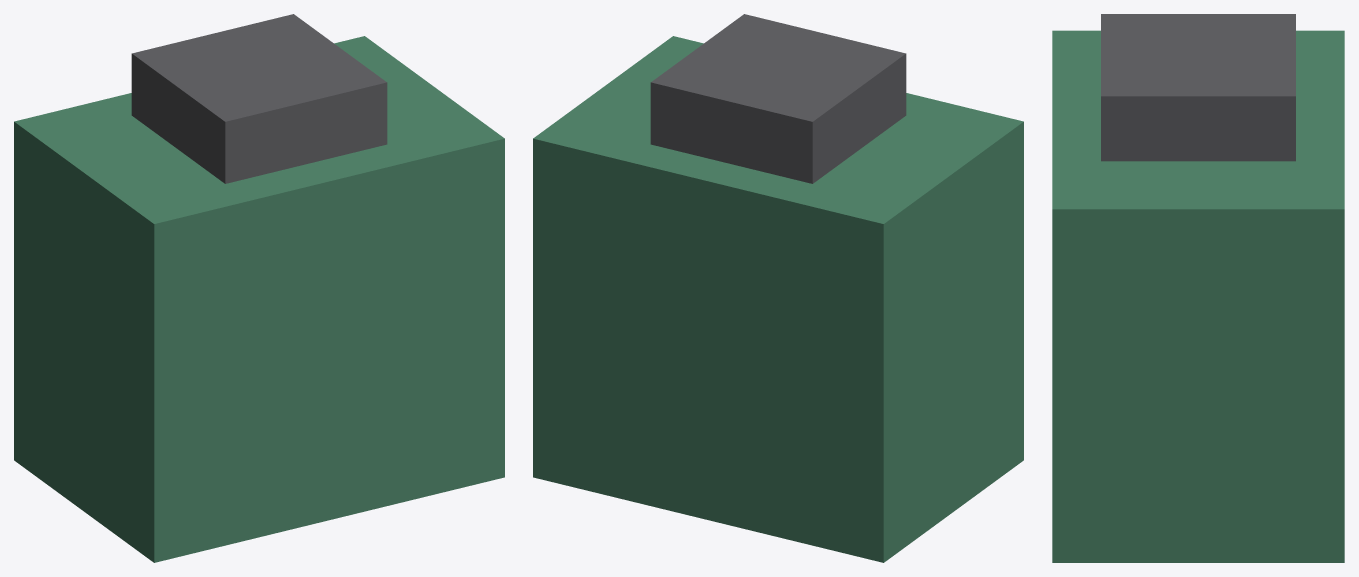
File: lipo-jst-ph-2.glb
3 renders of one model, left to right at view 1: azimuth 30°, elevation 25°; view 2: azimuth 150°, elevation 25°; view 3: azimuth 270°, elevation 25°, orthographic. The views are drawn at different scales.
Parts seen in each view (by area): view 1: lipo-jst-ph-2-pcb, lipo-jst-ph-2-ic; view 2: lipo-jst-ph-2-pcb, lipo-jst-ph-2-ic; view 3: lipo-jst-ph-2-pcb, lipo-jst-ph-2-ic.
Boxes of the visible parts, bbox=[...] form: lipo-jst-ph-2-pcb: bbox=[14, 36, 504, 562]; lipo-jst-ph-2-ic: bbox=[131, 14, 387, 183]; lipo-jst-ph-2-pcb: bbox=[533, 36, 1023, 562]; lipo-jst-ph-2-ic: bbox=[650, 14, 906, 183]; lipo-jst-ph-2-pcb: bbox=[1052, 30, 1344, 562]; lipo-jst-ph-2-ic: bbox=[1101, 14, 1295, 161].
Size of the model in its own units: 0.0065 by 0.0071 by 0.0045.
